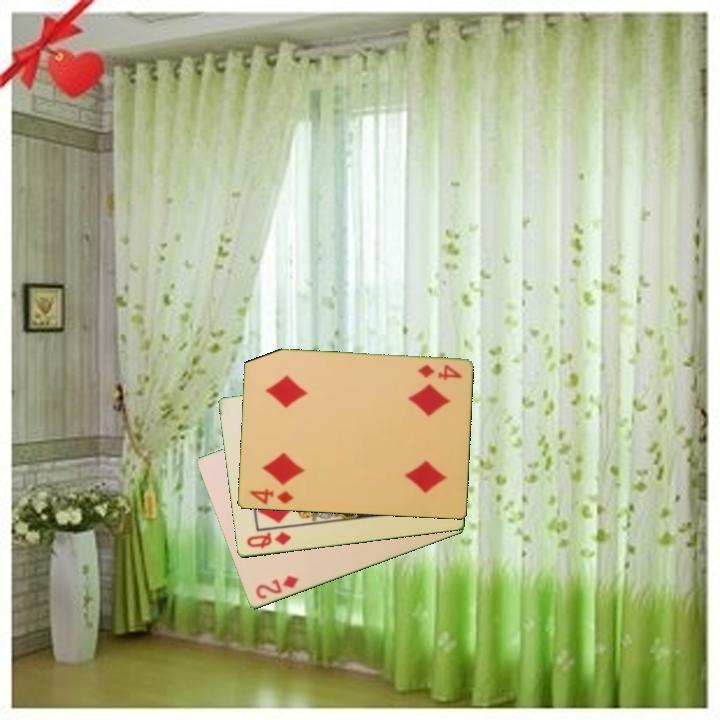2d: (252, 572, 301, 602)
4d: (245, 485, 296, 507), (414, 361, 464, 383)
Qd: (243, 529, 294, 552)
